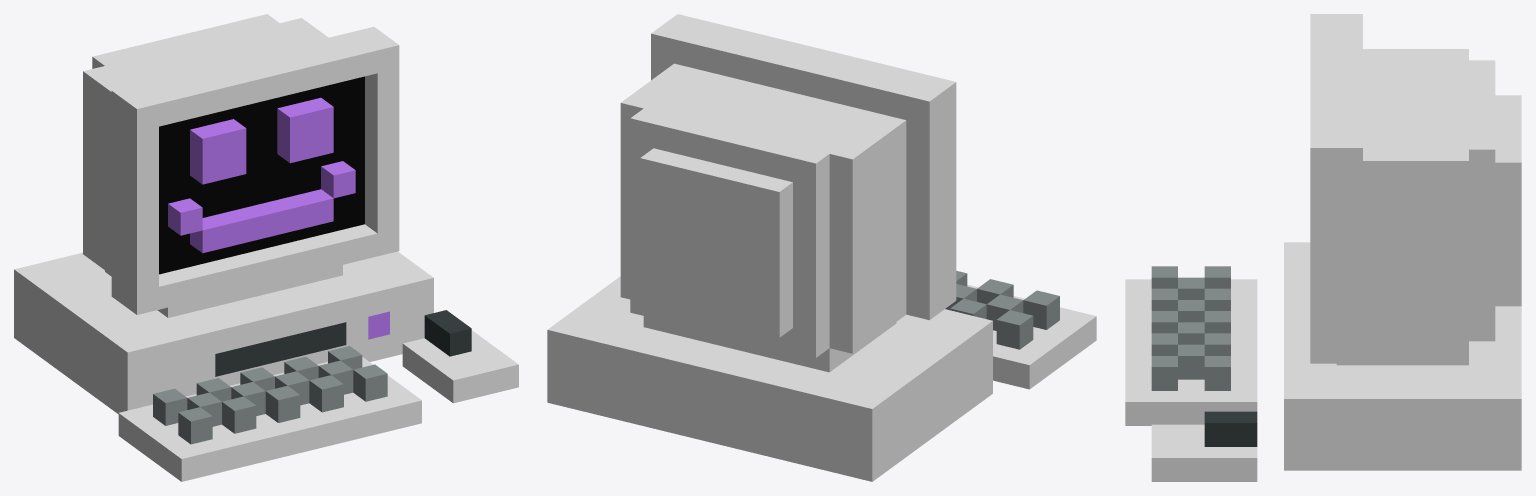
3 views of the same model, side by side, from view 1: azimuth 30°, elevation 25°; view 2: azimuth 150°, elevation 25°; view 3: azimuth 270°, elevation 25° (orthographic). The views are drawn at different scales.
Visible parts, largest first — view 1: unnamed_mesh1; view 2: unnamed_mesh1; view 3: unnamed_mesh1.
Boxes of the visible parts, x1,y1,x2,y2 form: unnamed_mesh1: (14, 14, 518, 481); unnamed_mesh1: (547, 14, 1096, 481); unnamed_mesh1: (1125, 14, 1521, 481).
Size of the model in its own units: 16 by 13 by 15.
1 material, 1 textured.
